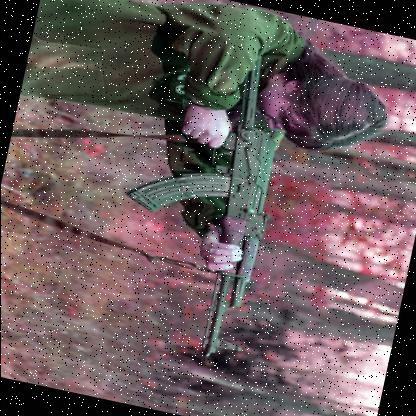rifle: (104, 31, 306, 362)
